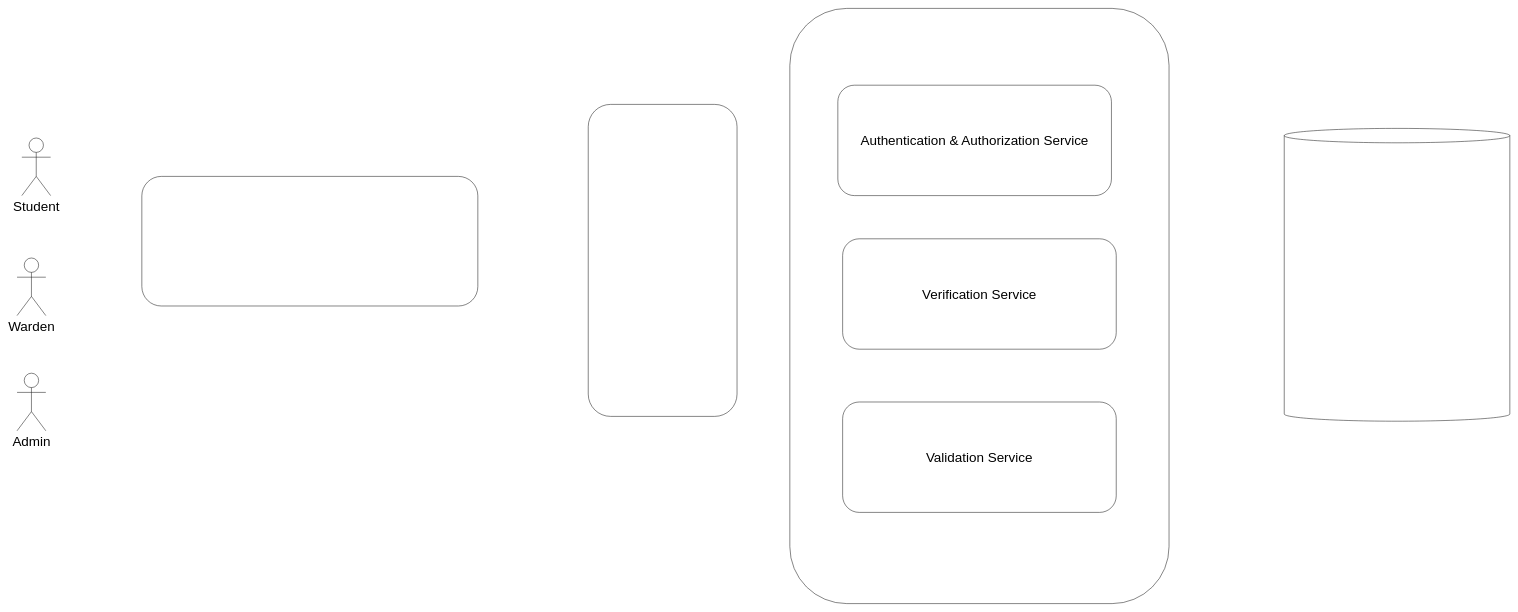
Some shapes in this 1518 by 612 pixel diagram are drawn without their labels. Each missing label, with the centre of its shape:
API Gateway: the point at 662,260
Database: the point at 1397,274
Frontend Layer (UI Components): the point at 309,241
